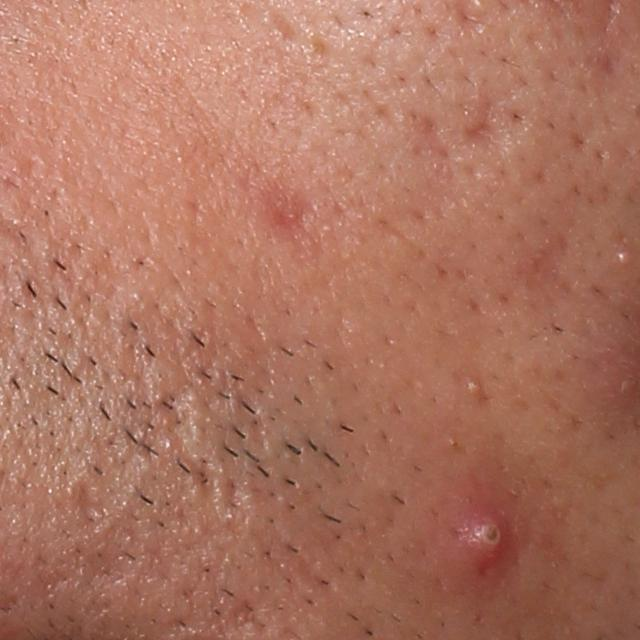atrophic_scar: (151, 380, 216, 497), (257, 181, 336, 260), (92, 536, 160, 597), (461, 88, 521, 155), (409, 108, 461, 179), (70, 476, 110, 530)
comedo: (617, 246, 635, 274)
pustule: (463, 506, 520, 568)
